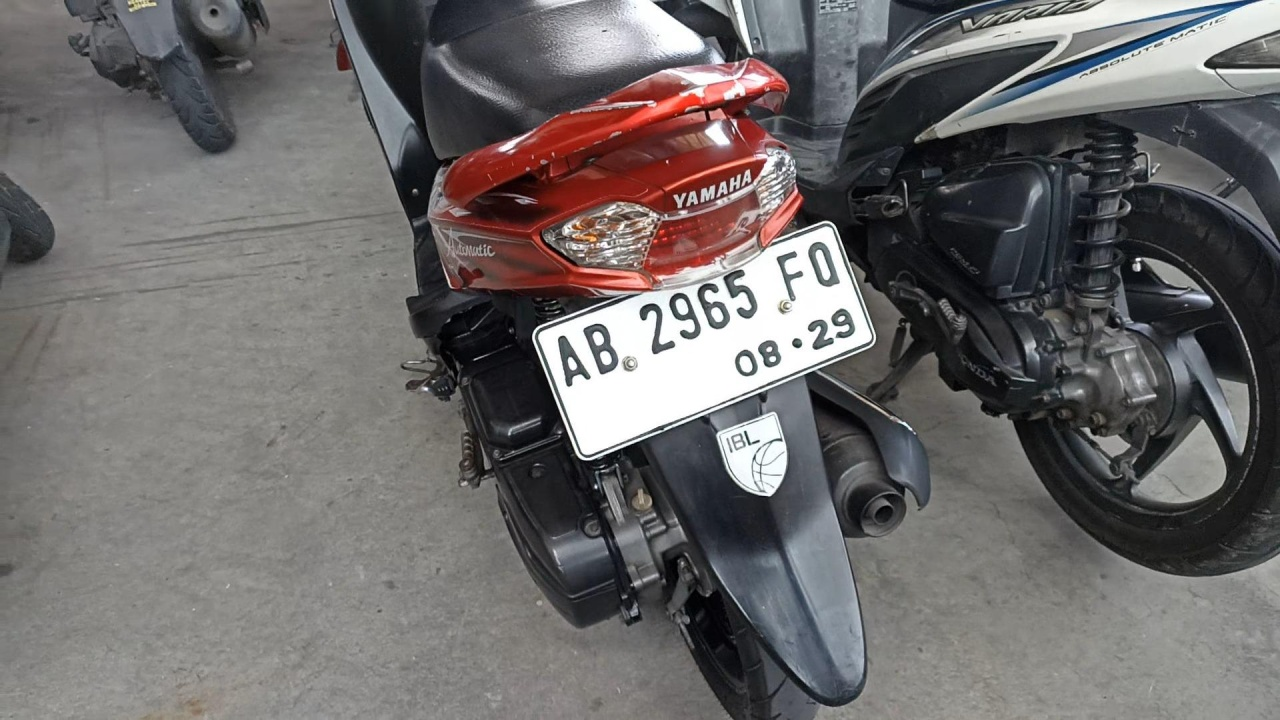plate: (533, 218, 877, 463)
